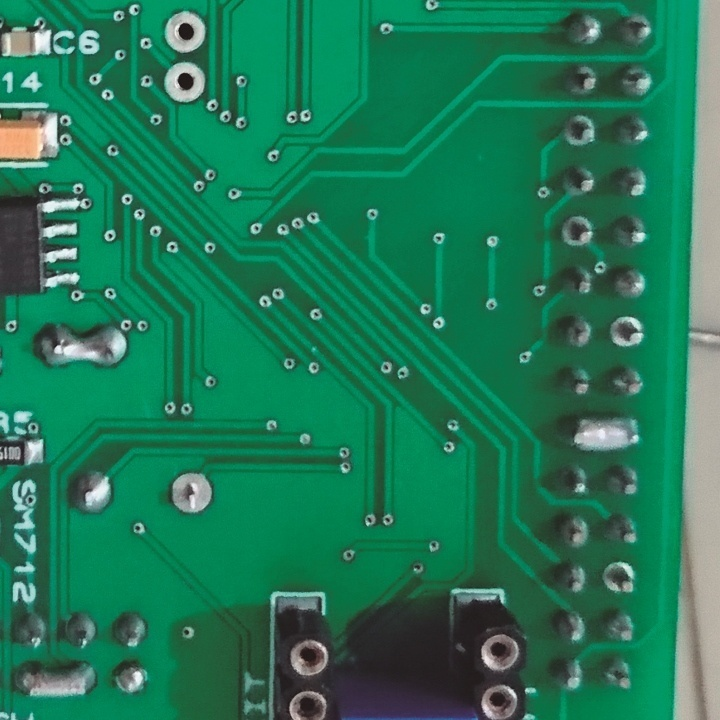F: (167, 471, 219, 521), (161, 60, 209, 109), (160, 9, 210, 54), (599, 558, 640, 598), (556, 215, 596, 253), (561, 112, 597, 152), (608, 314, 644, 351)
P: (30, 320, 133, 376), (10, 658, 106, 704), (559, 412, 646, 457)
